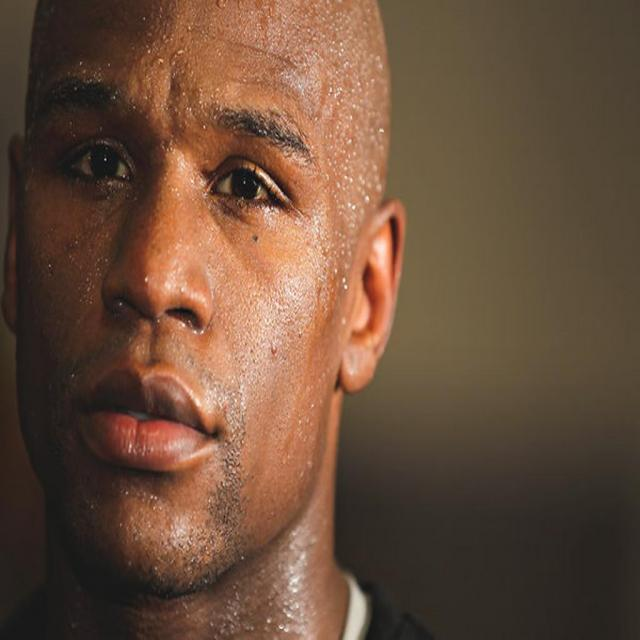nomask: (21, 11, 339, 586)
